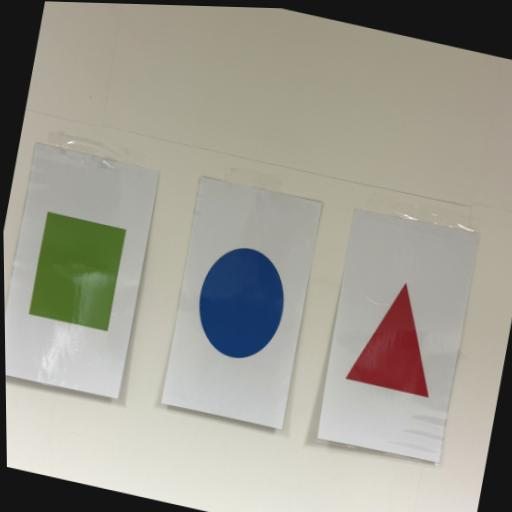blue_circle: (183, 237, 297, 369), (343, 283, 428, 399)
green_rectangle: (28, 212, 128, 333)
